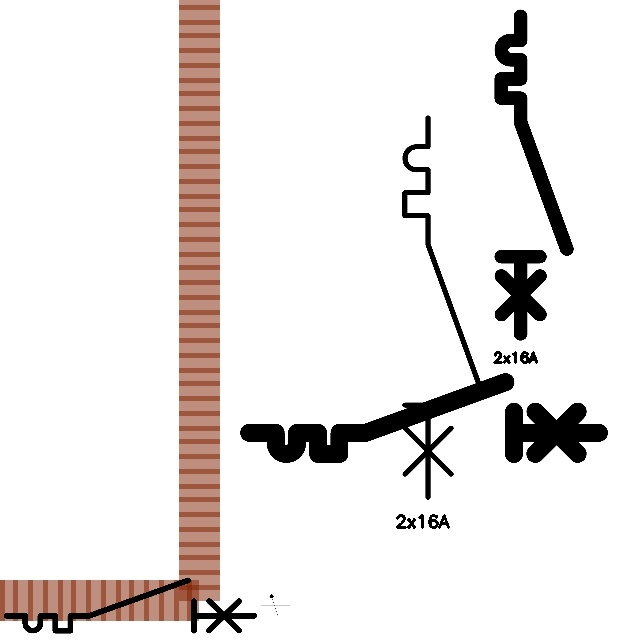interruptor_termomagnetico: (395, 108, 492, 507), (240, 373, 607, 463), (493, 8, 574, 342), (0, 574, 260, 637)
